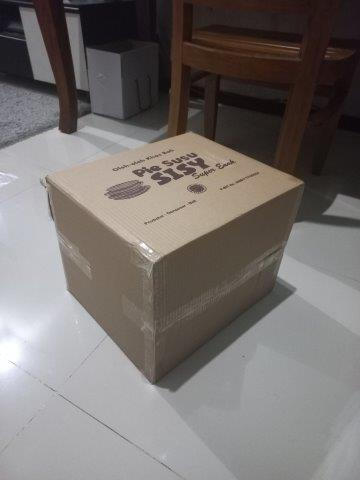kardus: (46, 131, 306, 388)
